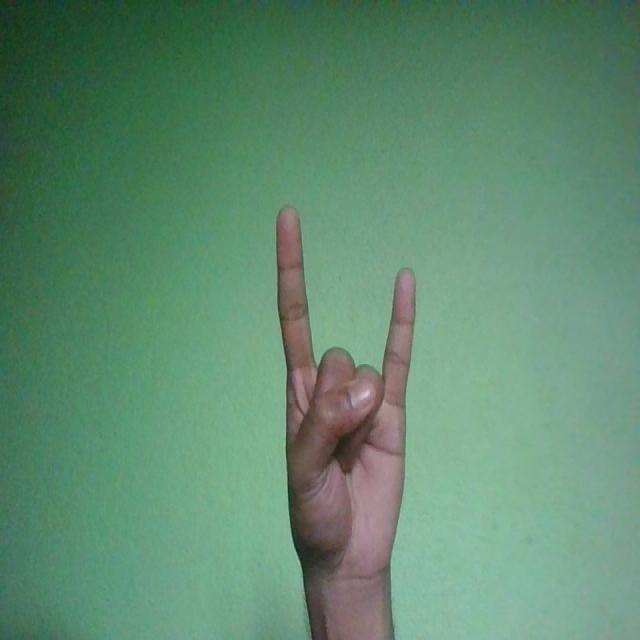open Plam: (275, 205, 418, 597)
